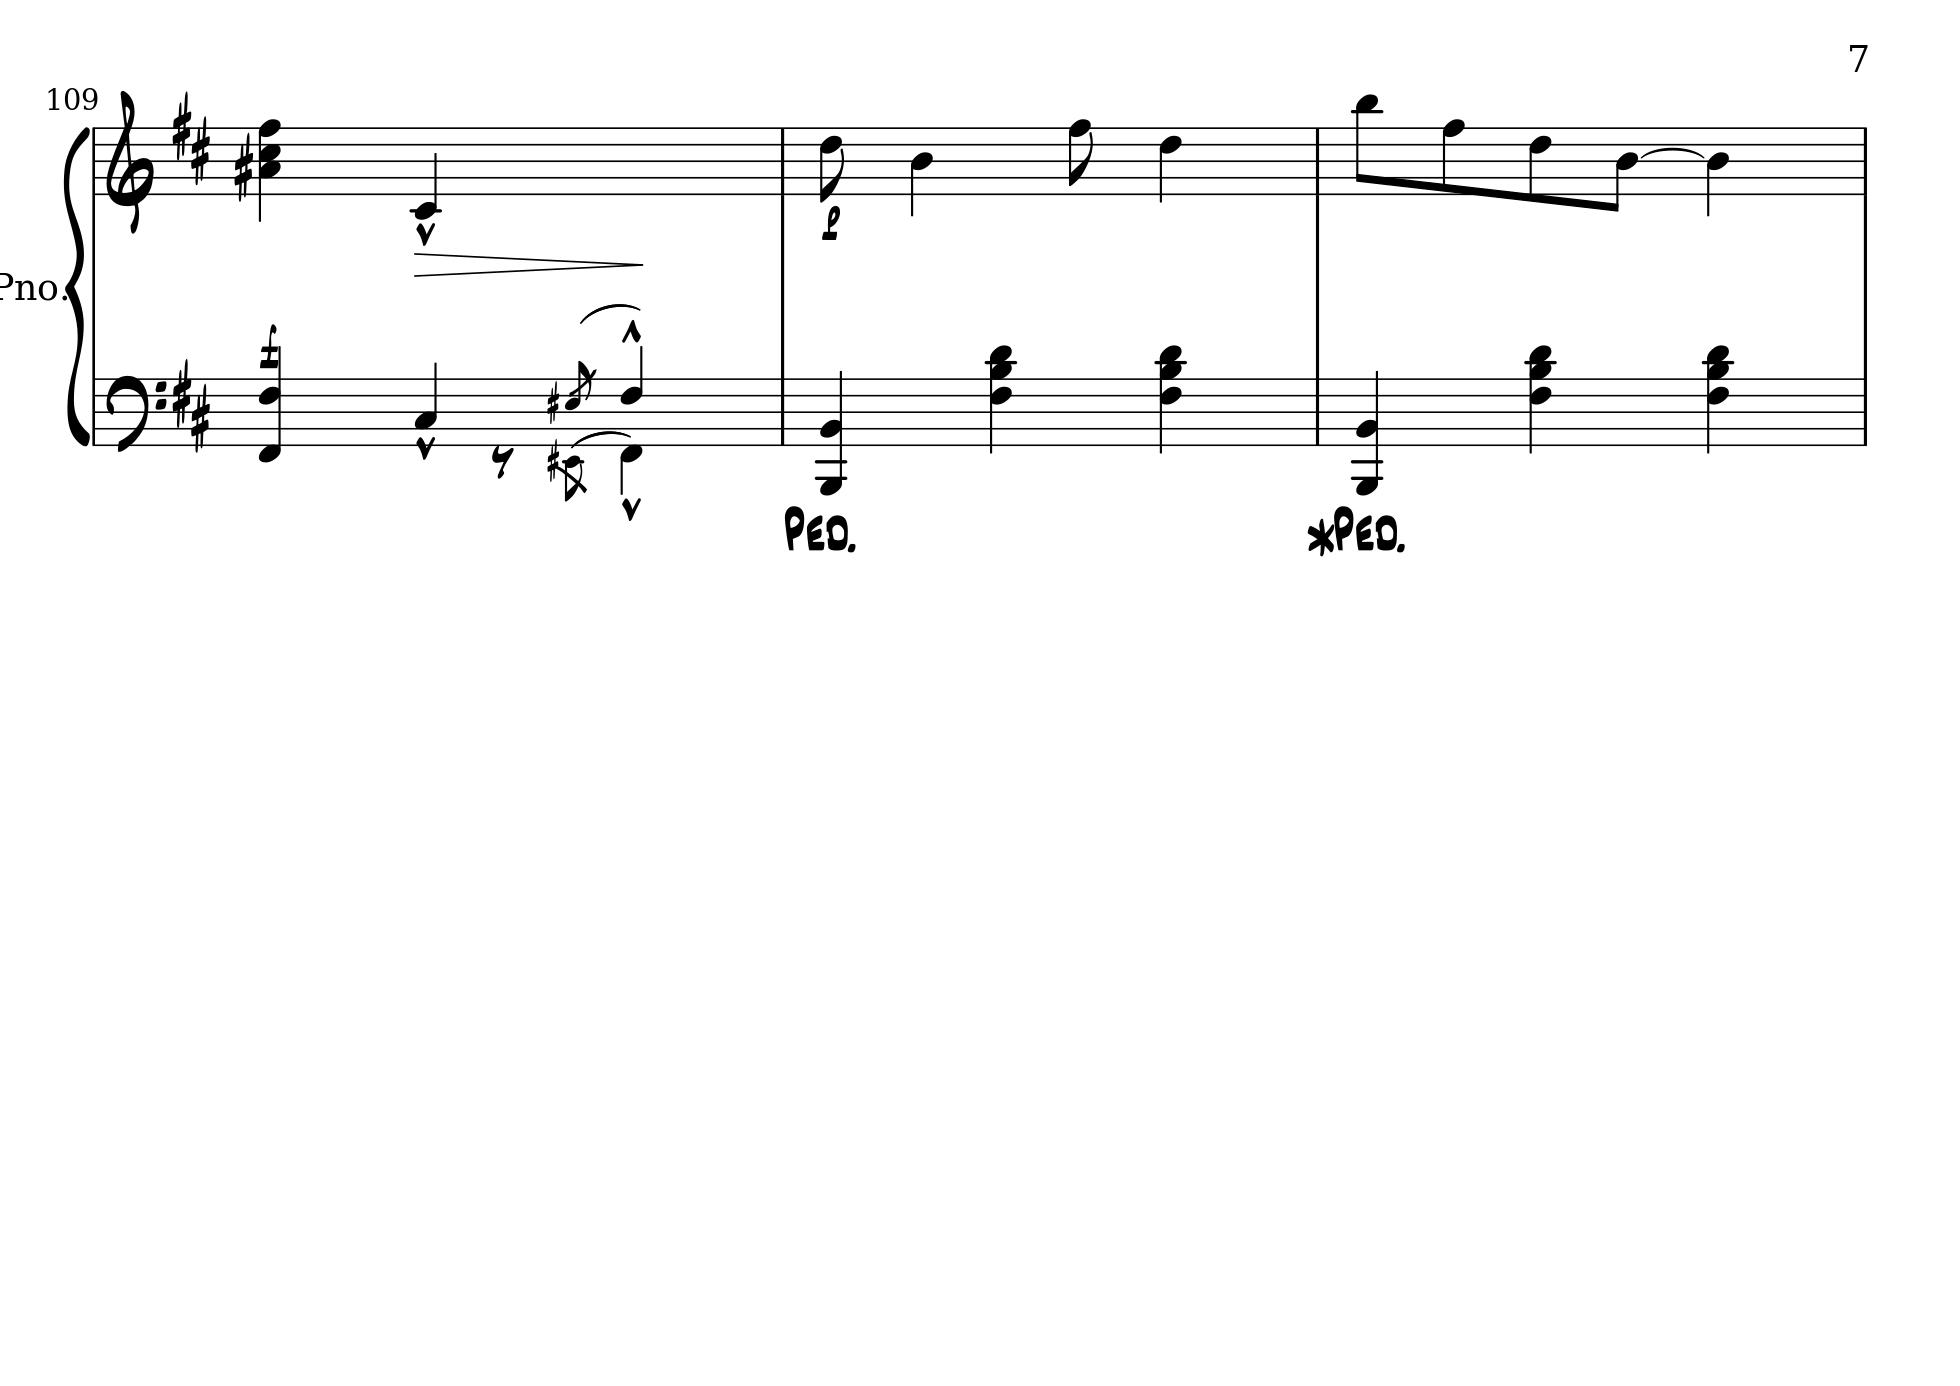0: (61, 82, 79, 112)
1: (46, 84, 61, 112)
4_-1_6: (619, 345, 645, 495), (258, 349, 285, 463)
4_-2: (408, 129, 442, 219)
4_-5_2: (1350, 367, 1383, 495), (816, 369, 847, 496)
4_3: (415, 361, 439, 447)
4_4: (1707, 126, 1729, 217)
4_6: (1159, 127, 1182, 202)
4_th: (985, 342, 1015, 454), (1702, 342, 1732, 453), (1155, 343, 1185, 454), (1525, 342, 1554, 453), (256, 115, 283, 220)
7: (1848, 37, 1872, 73)
8_11: (1353, 94, 1383, 196)
8_4: (1606, 126, 1638, 211), (910, 127, 931, 217)
8_6: (819, 127, 844, 204), (1530, 126, 1552, 204)
8_8: (1069, 118, 1093, 196), (1443, 118, 1465, 195)
9: (81, 82, 99, 112)
Acciaccature: (564, 358, 598, 448), (556, 448, 589, 501)
Brace: (64, 127, 88, 454)
Crescendo_hairpin: (412, 250, 637, 279)
D_S: (171, 88, 213, 184), (172, 355, 211, 450)
Fclef: (105, 373, 168, 453)
Gclef: (106, 88, 154, 232)
Marcato_above: (414, 220, 439, 246), (619, 495, 643, 522), (414, 435, 439, 459)
Rests8: (490, 445, 516, 478)
Sharp: (232, 132, 252, 201)
Single_barline: (1308, 127, 1327, 193), (1309, 376, 1326, 445), (1857, 378, 1873, 445), (774, 127, 790, 193), (1857, 127, 1873, 193), (774, 378, 790, 444), (88, 127, 102, 196), (88, 379, 100, 442)
Slur: (568, 430, 633, 448), (1639, 145, 1707, 159)
f: (259, 322, 280, 370)
p: (820, 205, 841, 243)
